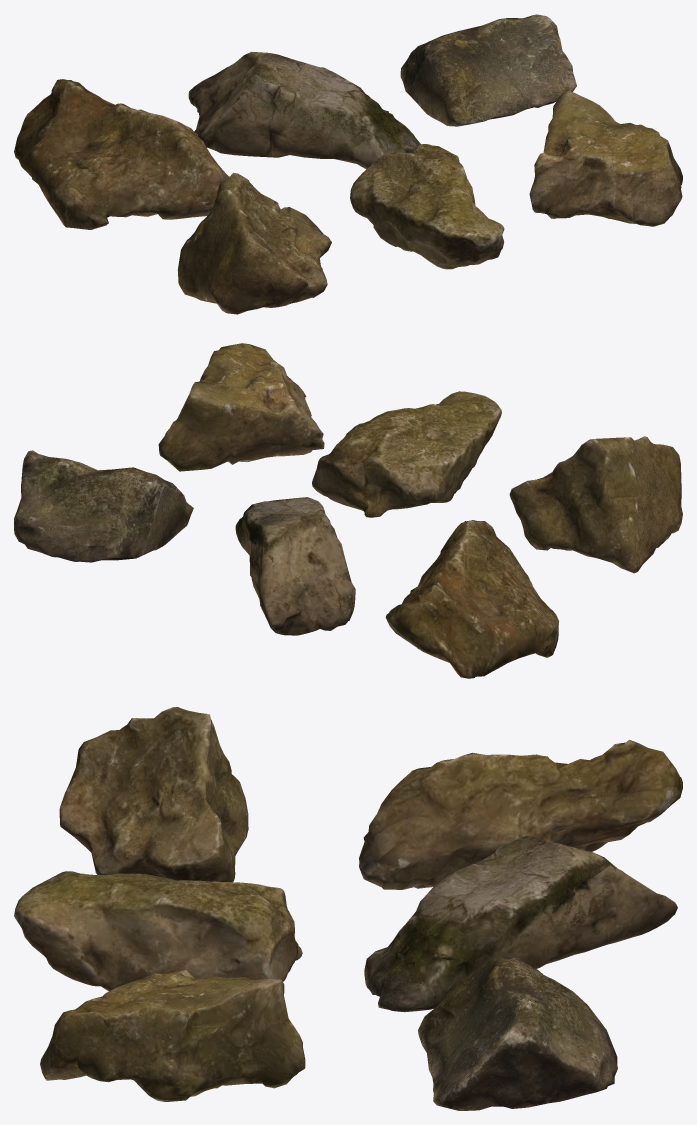
Rendered from rocks_mossy.glb.
The picture shows the model from 3 angles, top to bottom: view 1: azimuth 30°, elevation 25°; view 2: azimuth 150°, elevation 25°; view 3: azimuth 270°, elevation 25°; orthographic projection. The views are drawn at different scales.
Visible parts, largest first — view 1: rock_moss_set_01_rock01, rock_moss_set_01_rock02, rock_moss_set_01_rock06, rock_moss_set_01_rock04, rock_moss_set_01_rock03, rock_moss_set_01_rock05; view 2: rock_moss_set_01_rock04, rock_moss_set_01_rock01, rock_moss_set_01_rock05, rock_moss_set_01_rock03, rock_moss_set_01_rock06, rock_moss_set_01_rock02; view 3: rock_moss_set_01_rock01, rock_moss_set_01_rock02, rock_moss_set_01_rock05, rock_moss_set_01_rock06, rock_moss_set_01_rock04, rock_moss_set_01_rock03.
Boxes of the visible parts, x1,y1,x2,y2 form: rock_moss_set_01_rock01: (14, 79, 228, 229); rock_moss_set_01_rock02: (188, 51, 420, 169); rock_moss_set_01_rock06: (529, 90, 682, 226); rock_moss_set_01_rock04: (177, 172, 331, 314); rock_moss_set_01_rock03: (400, 14, 576, 126); rock_moss_set_01_rock05: (350, 144, 504, 269); rock_moss_set_01_rock04: (509, 436, 682, 573); rock_moss_set_01_rock01: (385, 520, 559, 678); rock_moss_set_01_rock05: (312, 391, 501, 517); rock_moss_set_01_rock03: (14, 450, 193, 562); rock_moss_set_01_rock06: (158, 343, 324, 471); rock_moss_set_01_rock02: (235, 497, 355, 635); rock_moss_set_01_rock01: (359, 739, 682, 889); rock_moss_set_01_rock02: (364, 836, 677, 1012); rock_moss_set_01_rock05: (14, 871, 302, 991); rock_moss_set_01_rock06: (40, 970, 305, 1101); rock_moss_set_01_rock04: (59, 707, 248, 882); rock_moss_set_01_rock03: (418, 956, 617, 1110).
Bounding box in the file's own units: 8 × 1.76 × 6.94.
1 material, 1 textured.
